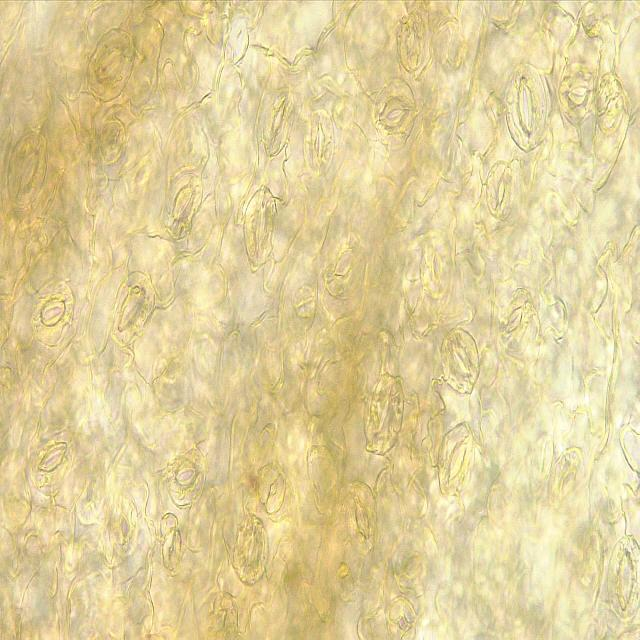Stomata: (86, 27, 136, 102), (505, 64, 547, 152), (363, 371, 404, 456), (6, 130, 50, 209), (111, 270, 156, 345), (29, 424, 75, 496), (31, 279, 75, 348), (373, 77, 416, 147), (324, 228, 364, 300), (607, 534, 640, 620), (164, 172, 205, 241), (243, 185, 277, 265), (438, 420, 474, 495), (441, 327, 480, 394), (232, 513, 267, 585), (548, 446, 585, 514), (165, 446, 206, 507), (346, 480, 378, 556), (419, 231, 453, 300), (391, 534, 428, 597), (263, 87, 295, 158), (498, 288, 534, 348), (558, 63, 594, 121), (303, 109, 334, 174), (200, 590, 238, 640), (486, 161, 518, 220), (109, 493, 138, 558), (396, 11, 426, 73), (258, 462, 286, 514), (99, 119, 126, 166), (388, 598, 416, 640), (162, 528, 181, 570)
